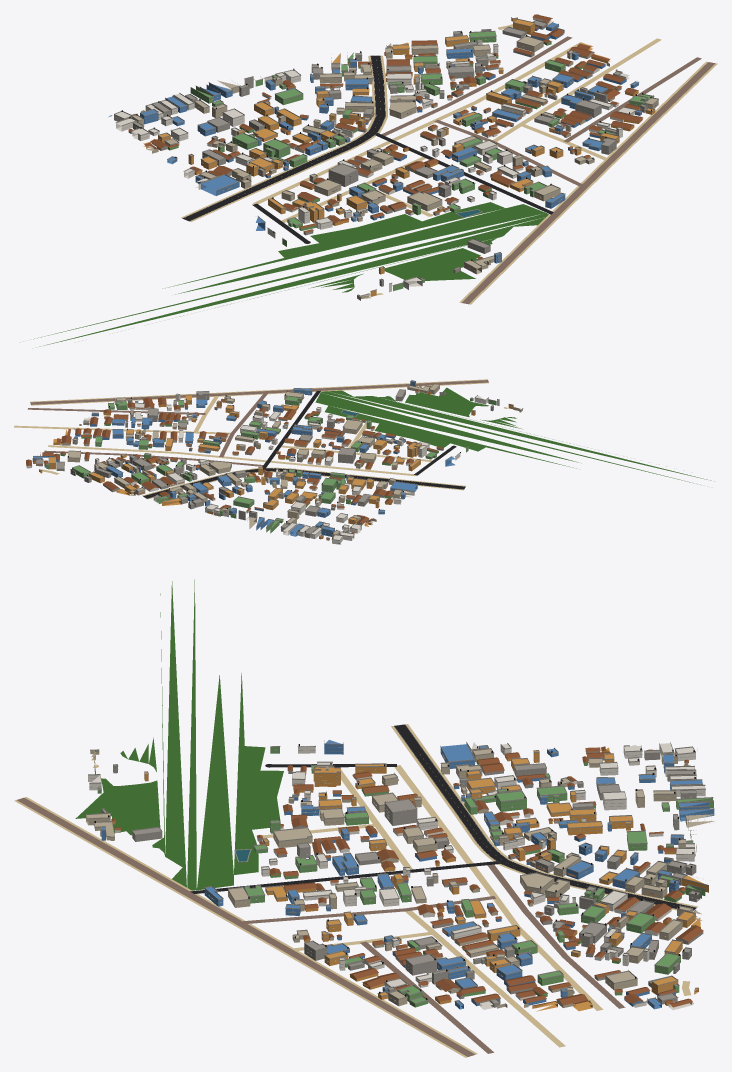
File: zone_t0_2.glb
The picture shows the model from 3 angles, top to bottom: view 1: azimuth 30°, elevation 25°; view 2: azimuth 150°, elevation 25°; view 3: azimuth 270°, elevation 25°; orthographic projection. The views are drawn at different scales.
Parts seen in each view (by area): view 1: parapet_t0_2, zone_humide_t0_2, toit_tole_t0_2, bld_peinture_ecaillee_t0_2-col, bld_peinture_bleu_t0_2-col, bld_peinture_ocre_t0_2-col, bld_peinture_blanc_t0_2-col, bld_beton_t0_2-col, bld_peinture_vert_t0_2-col, accotement_t0_2, route_residential_terre_t0_2, route_tertiary_paves_t0_2 (+4 smaller); view 2: parapet_t0_2, zone_humide_t0_2, toit_tole_t0_2, bld_peinture_ecaillee_t0_2-col, bld_peinture_bleu_t0_2-col, bld_peinture_ocre_t0_2-col, bld_peinture_blanc_t0_2-col, bld_beton_t0_2-col, bld_peinture_vert_t0_2-col, route_residential_terre_t0_2, accotement_t0_2, route_tertiary_paves_t0_2 (+4 smaller); view 3: zone_humide_t0_2, parapet_t0_2, toit_tole_t0_2, bld_peinture_ecaillee_t0_2-col, bld_peinture_bleu_t0_2-col, bld_peinture_ocre_t0_2-col, bld_beton_t0_2-col, bld_peinture_blanc_t0_2-col, bld_peinture_vert_t0_2-col, route_residential_terre_t0_2, accotement_t0_2, route_tertiary_paves_t0_2 (+4 smaller).
Boxes of the visible parts, <box> form: parapet_t0_2: <box>114,17,658,297</box>; zone_humide_t0_2: <box>33,202,548,346</box>; toit_tole_t0_2: <box>128,14,642,259</box>; bld_peinture_ecaillee_t0_2-col: <box>128,36,658,300</box>; bld_peinture_bleu_t0_2-col: <box>140,23,641,263</box>; bld_peinture_ocre_t0_2-col: <box>142,18,655,296</box>; bld_peinture_blanc_t0_2-col: <box>114,17,635,292</box>; bld_beton_t0_2-col: <box>133,20,647,286</box>; bld_peinture_vert_t0_2-col: <box>168,31,652,291</box>; accotement_t0_2: <box>181,55,717,304</box>; route_residential_terre_t0_2: <box>253,24,661,295</box>; route_tertiary_paves_t0_2: <box>462,62,715,304</box>; parapet_t0_2: <box>32,380,523,540</box>; zone_humide_t0_2: <box>315,387,711,485</box>; toit_tole_t0_2: <box>26,389,443,538</box>; bld_peinture_ecaillee_t0_2-col: <box>61,384,522,540</box>; bld_peinture_bleu_t0_2-col: <box>32,381,455,536</box>; bld_peinture_ocre_t0_2-col: <box>33,393,513,539</box>; bld_peinture_blanc_t0_2-col: <box>26,391,499,544</box>; bld_beton_t0_2-col: <box>36,390,493,538</box>; bld_peinture_vert_t0_2-col: <box>46,396,496,533</box>; route_residential_terre_t0_2: <box>14,396,508,476</box>; accotement_t0_2: <box>30,379,488,499</box>; route_tertiary_paves_t0_2: <box>30,380,488,404</box>; zone_humide_t0_2: <box>75,579,283,890</box>; parapet_t0_2: <box>86,740,714,1005</box>; toit_tole_t0_2: <box>111,746,703,1007</box>; bld_peinture_ecaillee_t0_2-col: <box>86,747,714,1008</box>; bld_peinture_bleu_t0_2-col: <box>101,740,714,1009</box>; bld_peinture_ocre_t0_2-col: <box>94,747,708,1011</box>; bld_beton_t0_2-col: <box>101,750,703,1007</box>; bld_peinture_blanc_t0_2-col: <box>88,742,705,1010</box>; bld_peinture_vert_t0_2-col: <box>95,747,713,1007</box>; route_residential_terre_t0_2: <box>93,764,690,1047</box>; accotement_t0_2: <box>14,724,697,1057</box>; route_tertiary_paves_t0_2: <box>17,797,475,1056</box>.
Size of the model in its own units: 950 by 14 by 583.
